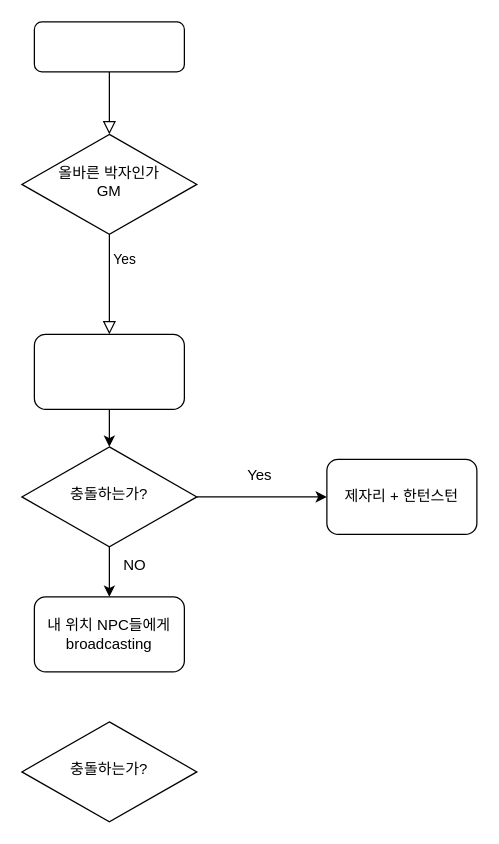
This 499x844 diagram has some shape labels left out. Each missing label, with the centre of its shape:
PC들이 서로 다음 위치 예측: the point at 108,371
사용자 입력: the point at 108,46
